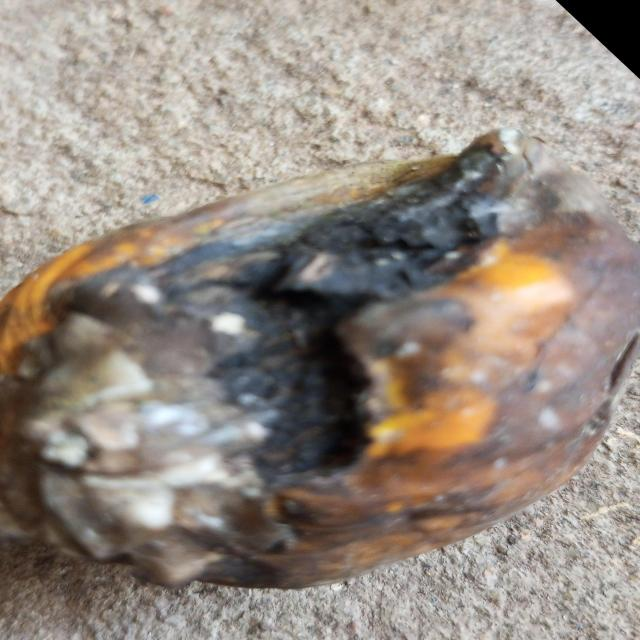damaged: (0, 128, 640, 595)
